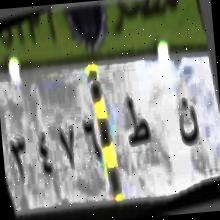3: (8, 126, 33, 189)
4: (33, 120, 56, 190)
6: (80, 108, 105, 176)
7: (56, 113, 82, 180)
Taa: (123, 91, 152, 159)
noon: (172, 89, 204, 150)
